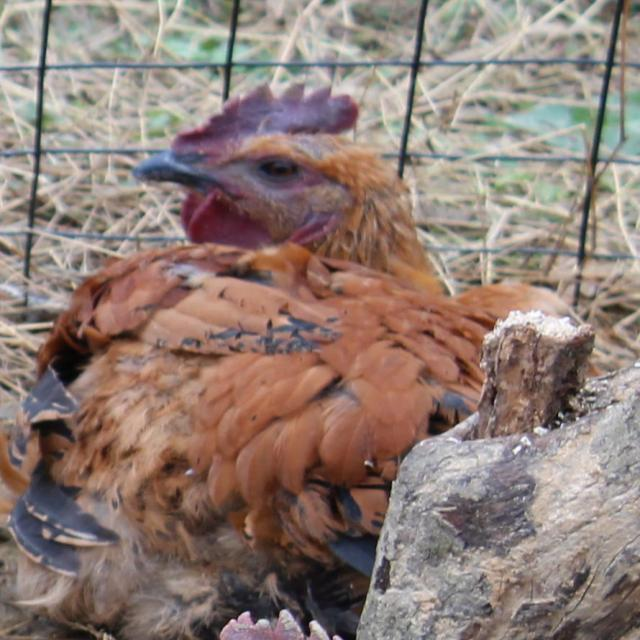hen: (10, 88, 567, 640)
